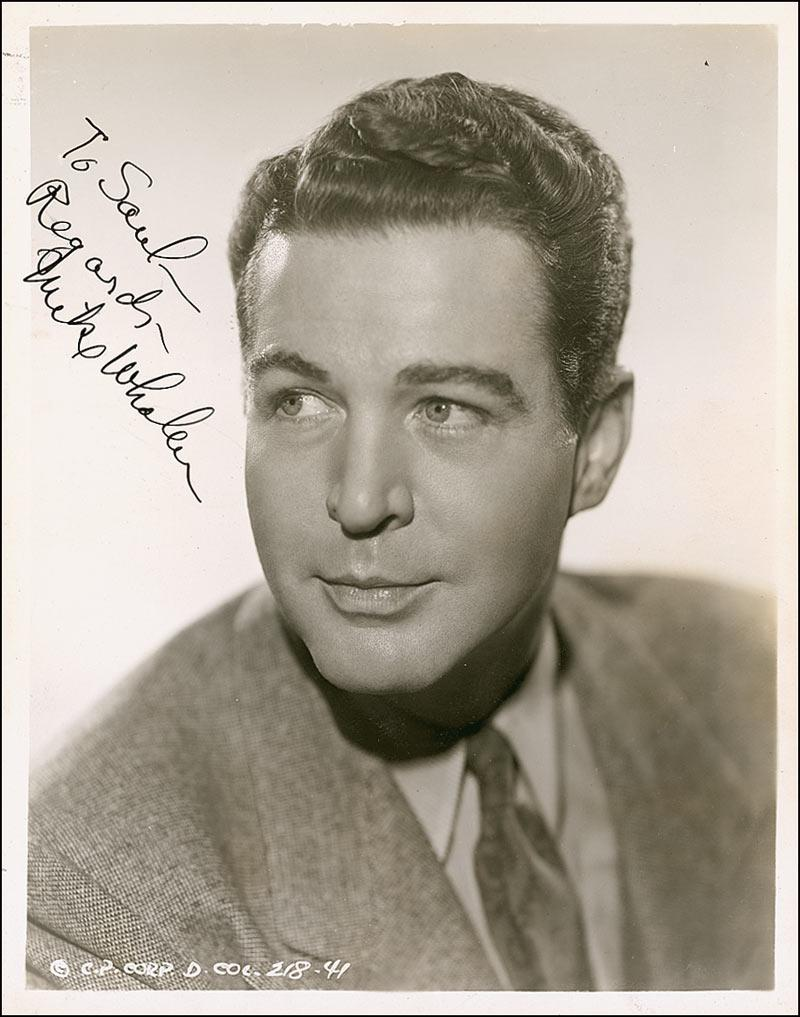bad: (204, 290, 589, 675)
